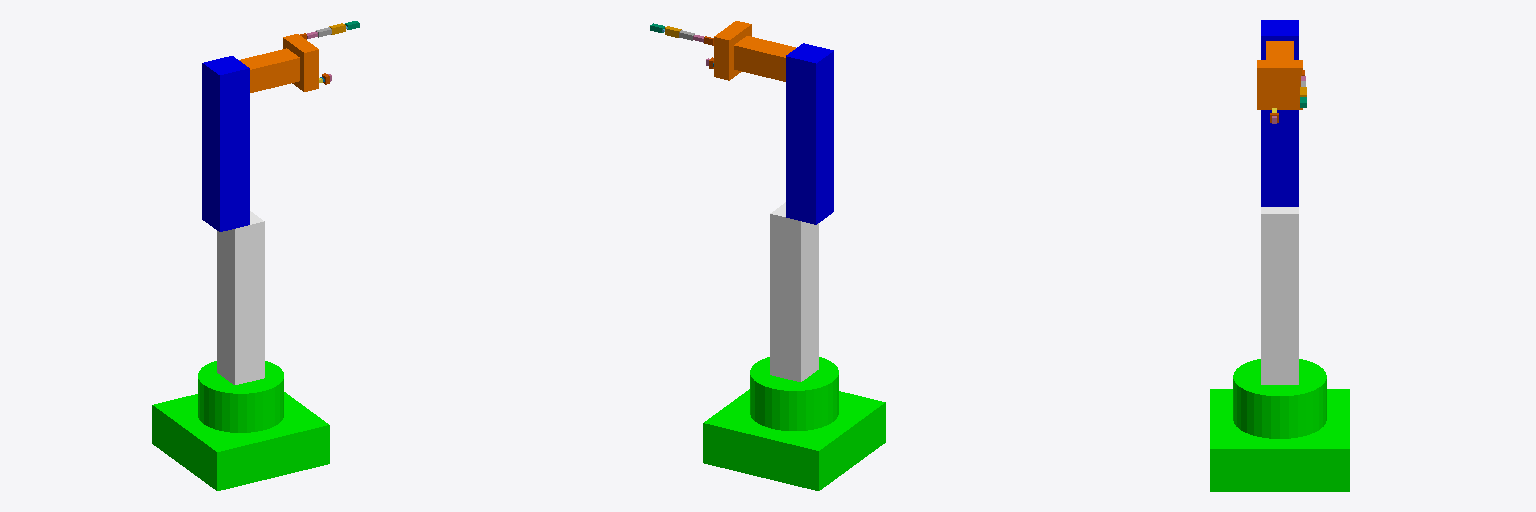
The robot description file, URDF, robot "robot":
<?xml version='1.0' encoding='utf-8'?>
<robot name="robot">
  <link name="base_link">
    <visual>
      <origin xyz="0 0 0.125" rpy="0 0 0" />
      <geometry>
        <box size="0.75 0.75 0.25" />
      </geometry>
      <material name="green" />
    </visual>
    <visual>
      <origin xyz="0 0 0.375" rpy="0 0 0" />
      <geometry>
        <cylinder length="0.25" radius="0.25" />
      </geometry>
      <material name="green">
        <color rgba="0 1 0 1" />
      </material>
    </visual>
    <collision>
      <geometry>
        <box size="0.75 0.75 0.5" />
      </geometry>
    </collision>
    <inertial>
      <mass value="0.5" />
      <inertia ixx="0.034" ixy="0.0" ixz="0.0" iyy="0.034" iyz="0.0" izz="0.034" />
    </inertial>
  </link>
  <link name="support_link">
    <visual>
      <origin xyz="0 0 0.5" rpy="0 0 0" />
      <geometry>
        <box size="0.2 0.2 1" />
      </geometry>
      <material name="white">
        <color rgba="1 1 1 1" />
      </material>
    </visual>
    <collision>
      <geometry>
        <box size="0.2 0.2 1" />
      </geometry>
    </collision>
    <inertial>
      <mass value="0.1" />
      <inertia ixx="0.01" ixy="0.0" ixz="0.0" iyy="0.01" iyz="0.0" izz="0.01" />
    </inertial>
  </link>
  <joint name="support_joint" type="continuous">
    <origin xyz="0 0 0.5" rpy="0 0 0" />
    <parent link="base_link" />
    <child link="support_link" />
    <axis xyz="0 0 1" />
  </joint>
  <link name="arm_link">
    <visual>
      <origin xyz="0 0 0.5" rpy="0 0 0" />
      <geometry>
        <box size="0.2 0.2 1" />
      </geometry>
      <material name="blue">
        <color rgba="0 0 1 1" />
      </material>
    </visual>
    <collision>
      <geometry>
        <box size="0.2 0.2 1" />
      </geometry>
    </collision>
    <inertial>
      <mass value="0.1" />
      <inertia ixx="0.01" ixy="0.0" ixz="0.0" iyy="0.01" iyz="0.0" izz="0.01" />
    </inertial>
  </link>
  <joint name="arm_joint" type="revolute">
    <origin xyz="-0.1 0 1" rpy="0 0 0" />
    <parent link="support_link" />
    <child link="arm_link" />
    <axis xyz="0 1 0" />
    <limit lower="-3.14" upper="3.14" effort="1.0" velocity="1.0" />
  </joint>
  <link name="wrist_link">
    <visual>
      <origin xyz="0 0 0.25" rpy="0 0 0" />
      <geometry>
        <box size="0.15 0.15 0.5" />
      </geometry>
      <material name="orange">
        <color rgba="1 0.5 0 1" />
      </material>
    </visual>
    <collision>
      <geometry>
        <box size="0.15 0.15 0.5" />
      </geometry>
    </collision>
    <inertial>
      <mass value="0.1" />
      <inertia ixx="0.01" ixy="0.0" ixz="0.0" iyy="0.01" iyz="0.0" izz="0.01" />
    </inertial>
  </link>
  <joint name="wrist_joint" type="fixed">
    <origin xyz="0 0 0.9" rpy="0 1.571 0" />
    <parent link="arm_link" />
    <child link="wrist_link" />
  </joint>
  <link name="palm_link">
    <visual>
      <origin xyz="0 0 0.05" rpy="0 0 0" />
      <geometry>
        <box size="0.25 0.25 0.1" />
      </geometry>
      <material name="orange" />
    </visual>
    <collision>
      <geometry>
        <box size="0.25 0.25 0.1" />
      </geometry>
    </collision>
    <inertial>
      <mass value="0.1" />
      <inertia ixx="0.01" ixy="0.0" ixz="0.0" iyy="0.01" iyz="0.0" izz="0.01" />
    </inertial>
  </link>
  <joint name="palm_joint" type="fixed">
    <origin xyz="0 0 0.45" rpy="0 0 0" />
    <parent link="wrist_link" />
    <child link="palm_link" />
  </joint>
  <link name="finger_link_0_0">
    <visual>
      <origin xyz="0 0 0.029" rpy="0 0 0" />
      <geometry>
        <box size="0.039 0.017 0.058" />
      </geometry>
    </visual>
    <collision>
      <geometry>
        <box size="0.039 0.017 0.058" />
      </geometry>
    </collision>
    <inertial>
      <mass value="0.012" />
      <inertia ixx="0.0" iyy="0.0" izz="0.0" ixy="0" ixz="0" iyz="0" />
    </inertial>
  </link>
  <joint name="finger_joint_palm_link_to_finger_link_0_0" type="revolute">
    <origin xyz="-0.092 0.125 0.1" rpy="0 0 0" />
    <parent link="palm_link" />
    <child link="finger_link_0_0" />
    <axis xyz="-1.0 0.0 0.0" />
    <limit lower="-3.142" upper="3.142" effort="10" velocity="10" />
  </joint>
  <link name="finger_link_0_1">
    <visual>
      <origin xyz="0 0 0.036" rpy="0 0 0" />
      <geometry>
        <box size="0.023 0.028 0.072" />
      </geometry>
    </visual>
    <collision>
      <geometry>
        <box size="0.023 0.028 0.072" />
      </geometry>
    </collision>
    <inertial>
      <mass value="0.014" />
      <inertia ixx="0.0" iyy="0.0" izz="0.0" ixy="0" ixz="0" iyz="0" />
    </inertial>
  </link>
  <joint name="finger_joint_finger_link_0_0_to_finger_link_0_1" type="revolute">
    <origin xyz="0.0 0.0 0.058" rpy="0 0 0" />
    <parent link="finger_link_0_0" />
    <child link="finger_link_0_1" />
    <axis xyz="0.0 1.0 0.0" />
    <limit lower="-3.142" upper="3.142" effort="10" velocity="10" />
  </joint>
  <link name="finger_link_0_2">
    <visual>
      <origin xyz="0 0 0.045" rpy="0 0 0" />
      <geometry>
        <box size="0.032 0.031 0.09" />
      </geometry>
    </visual>
    <collision>
      <geometry>
        <box size="0.032 0.031 0.09" />
      </geometry>
    </collision>
    <inertial>
      <mass value="0.027" />
      <inertia ixx="0.0" iyy="0.0" izz="0.0" ixy="0" ixz="0" iyz="0" />
    </inertial>
  </link>
  <joint name="finger_joint_finger_link_0_1_to_finger_link_0_2" type="revolute">
    <origin xyz="0.0 0.0 0.072" rpy="0 0 0" />
    <parent link="finger_link_0_1" />
    <child link="finger_link_0_2" />
    <axis xyz="1.0 0.0 0.0" />
    <limit lower="-3.142" upper="3.142" effort="10" velocity="10" />
  </joint>
  <link name="finger_link_0_3">
    <visual>
      <origin xyz="0 0 0.0455" rpy="0 0 0" />
      <geometry>
        <box size="0.042 0.033 0.091" />
      </geometry>
    </visual>
    <collision>
      <geometry>
        <box size="0.042 0.033 0.091" />
      </geometry>
    </collision>
    <inertial>
      <mass value="0.038" />
      <inertia ixx="0.0" iyy="0.0" izz="0.0" ixy="0" ixz="0" iyz="0" />
    </inertial>
  </link>
  <joint name="finger_joint_finger_link_0_2_to_finger_link_0_3" type="revolute">
    <origin xyz="0.0 0.0 0.09" rpy="0 0 0" />
    <parent link="finger_link_0_2" />
    <child link="finger_link_0_3" />
    <axis xyz="1.0 0.0 0.0" />
    <limit lower="-3.142" upper="3.142" effort="10" velocity="10" />
  </joint>
  <link name="finger_link_0_4">
    <visual>
      <origin xyz="0 0 0.007" rpy="0 0 0" />
      <geometry>
        <box size="0.01 0.034 0.014" />
      </geometry>
    </visual>
    <collision>
      <geometry>
        <box size="0.01 0.034 0.014" />
      </geometry>
    </collision>
    <inertial>
      <mass value="0.001" />
      <inertia ixx="0.0" iyy="0.0" izz="0.0" ixy="0" ixz="0" iyz="0" />
    </inertial>
  </link>
  <joint name="finger_joint_finger_link_0_3_to_finger_link_0_4" type="revolute">
    <origin xyz="0.0 0.0 0.091" rpy="0 0 0" />
    <parent link="finger_link_0_3" />
    <child link="finger_link_0_4" />
    <axis xyz="1.0 0.0 0.0" />
    <limit lower="-3.142" upper="3.142" effort="10" velocity="10" />
  </joint>
  <link name="finger_link_0_5">
    <visual>
      <origin xyz="0 0 0.039" rpy="0 0 0" />
      <geometry>
        <box size="0.032 0.034 0.078" />
      </geometry>
    </visual>
    <collision>
      <geometry>
        <box size="0.032 0.034 0.078" />
      </geometry>
    </collision>
    <inertial>
      <mass value="0.025" />
      <inertia ixx="0.0" iyy="0.0" izz="0.0" ixy="0" ixz="0" iyz="0" />
    </inertial>
  </link>
  <joint name="finger_joint_finger_link_0_4_to_finger_link_0_5" type="revolute">
    <origin xyz="0.0 0.0 0.014" rpy="0 0 0" />
    <parent link="finger_link_0_4" />
    <child link="finger_link_0_5" />
    <axis xyz="1.0 0.0 0.0" />
    <limit lower="-3.142" upper="3.142" effort="10" velocity="10" />
  </joint>
  <link name="finger_link_1_0">
    <visual>
      <origin xyz="0 0 0.035" rpy="0 0 0" />
      <geometry>
        <box size="0.022 0.027 0.07" />
      </geometry>
    </visual>
    <collision>
      <geometry>
        <box size="0.022 0.027 0.07" />
      </geometry>
    </collision>
    <inertial>
      <mass value="0.012" />
      <inertia ixx="0.0" iyy="0.0" izz="0.0" ixy="0" ixz="0" iyz="0" />
    </inertial>
  </link>
  <joint name="finger_joint_palm_link_to_finger_link_1_0" type="revolute">
    <origin xyz="0.125 -0.029 0.1" rpy="0 0 0" />
    <parent link="palm_link" />
    <child link="finger_link_1_0" />
    <axis xyz="0.0 1.0 0.0" />
    <limit lower="-3.142" upper="3.142" effort="10" velocity="10" />
  </joint>
  <link name="finger_link_1_1">
    <visual>
      <origin xyz="0 0 0.007" rpy="0 0 0" />
      <geometry>
        <box size="0.018 0.036 0.014" />
      </geometry>
    </visual>
    <collision>
      <geometry>
        <box size="0.018 0.036 0.014" />
      </geometry>
    </collision>
    <inertial>
      <mass value="0.003" />
      <inertia ixx="0.0" iyy="0.0" izz="0.0" ixy="0" ixz="0" iyz="0" />
    </inertial>
  </link>
  <joint name="finger_joint_finger_link_1_0_to_finger_link_1_1" type="revolute">
    <origin xyz="0.0 0.0 0.07" rpy="0 0 0" />
    <parent link="finger_link_1_0" />
    <child link="finger_link_1_1" />
    <axis xyz="0.0 1.0 0.0" />
    <limit lower="-3.142" upper="3.142" effort="10" velocity="10" />
  </joint>
  <link name="finger_link_1_2">
    <visual>
      <origin xyz="0 0 0.0135" rpy="0 0 0" />
      <geometry>
        <box size="0.05 0.045 0.027" />
      </geometry>
    </visual>
    <collision>
      <geometry>
        <box size="0.05 0.045 0.027" />
      </geometry>
    </collision>
    <inertial>
      <mass value="0.018" />
      <inertia ixx="0.0" iyy="0.0" izz="0.0" ixy="0" ixz="0" iyz="0" />
    </inertial>
  </link>
  <joint name="finger_joint_finger_link_1_1_to_finger_link_1_2" type="revolute">
    <origin xyz="0.0 0.0 0.014" rpy="0 0 0" />
    <parent link="finger_link_1_1" />
    <child link="finger_link_1_2" />
    <axis xyz="1.0 0.0 0.0" />
    <limit lower="-3.142" upper="3.142" effort="10" velocity="10" />
  </joint>
  <link name="finger_link_1_3">
    <visual>
      <origin xyz="0 0 0.012" rpy="0 0 0" />
      <geometry>
        <box size="0.037 0.023 0.024" />
      </geometry>
    </visual>
    <collision>
      <geometry>
        <box size="0.037 0.023 0.024" />
      </geometry>
    </collision>
    <inertial>
      <mass value="0.006" />
      <inertia ixx="0.0" iyy="0.0" izz="0.0" ixy="0" ixz="0" iyz="0" />
    </inertial>
  </link>
  <joint name="finger_joint_finger_link_1_2_to_finger_link_1_3" type="revolute">
    <origin xyz="0.0 0.0 0.027" rpy="0 0 0" />
    <parent link="finger_link_1_2" />
    <child link="finger_link_1_3" />
    <axis xyz="0.0 1.0 0.0" />
    <limit lower="-3.142" upper="3.142" effort="10" velocity="10" />
  </joint>
</robot>

--- What the picture shows (computed from the rendered views, not written in the file) ---
The picture shows the robot from 3 angles, left to right: view 1: azimuth 30°, elevation 25°; view 2: azimuth 150°, elevation 25°; view 3: azimuth 270°, elevation 25°; orthographic projection.
Robot: robot — 15 links, 14 joints (11 revolute, 1 continuous, 2 fixed); root link base_link; default pose: all joints at 0.
Links seen in each view (by area): view 1: base_link, arm_link, support_link, wrist_link, palm_link; view 2: base_link, arm_link, support_link, wrist_link, palm_link; view 3: base_link, support_link, arm_link, palm_link, wrist_link.
Link boxes in pixels (box(x1,y1,x2,y2)): base_link: box(152, 361, 329, 490); arm_link: box(202, 56, 249, 231); support_link: box(217, 211, 264, 384); wrist_link: box(239, 48, 299, 92); palm_link: box(283, 34, 318, 91); base_link: box(703, 357, 885, 490); arm_link: box(786, 43, 833, 224); support_link: box(770, 202, 818, 381); wrist_link: box(734, 36, 795, 81); palm_link: box(714, 21, 751, 80); base_link: box(1210, 359, 1349, 491); support_link: box(1261, 207, 1298, 384); arm_link: box(1261, 20, 1298, 206); palm_link: box(1257, 60, 1302, 109); wrist_link: box(1266, 41, 1293, 59).
Bounding box of the posed robot: 1.23 × 0.75 × 2.52 m (x, y, z).
Geometry: primitives only (box / cylinder / sphere), no mesh files.
